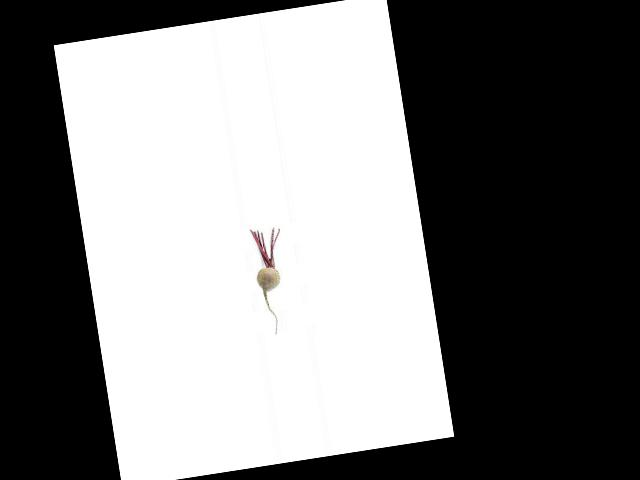beet: (249, 226, 294, 336)
